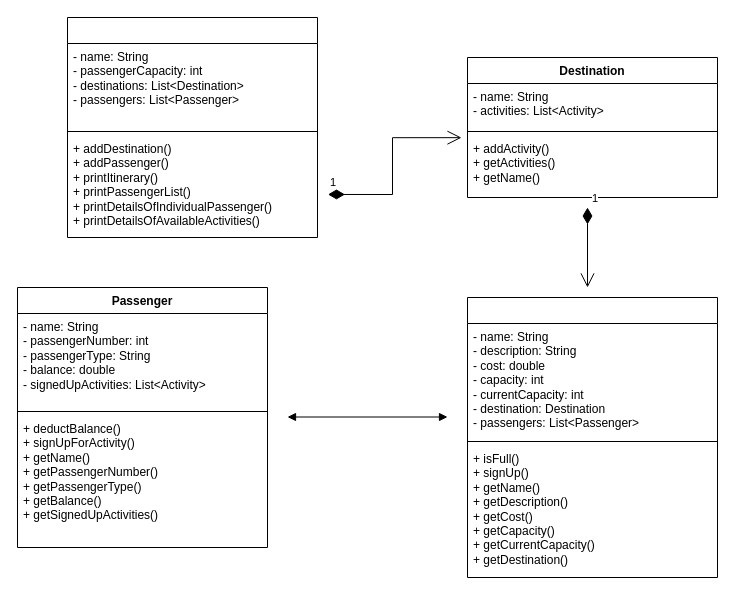
This 735x598 diagram has some shape labels left out. The shapes that lost their labels are listed below. From the top down, each one's box as (x1, y1, x2, y2) in pixels, then its label:
(66, 16, 318, 238): TravelPackage
(466, 296, 718, 578): Activity
